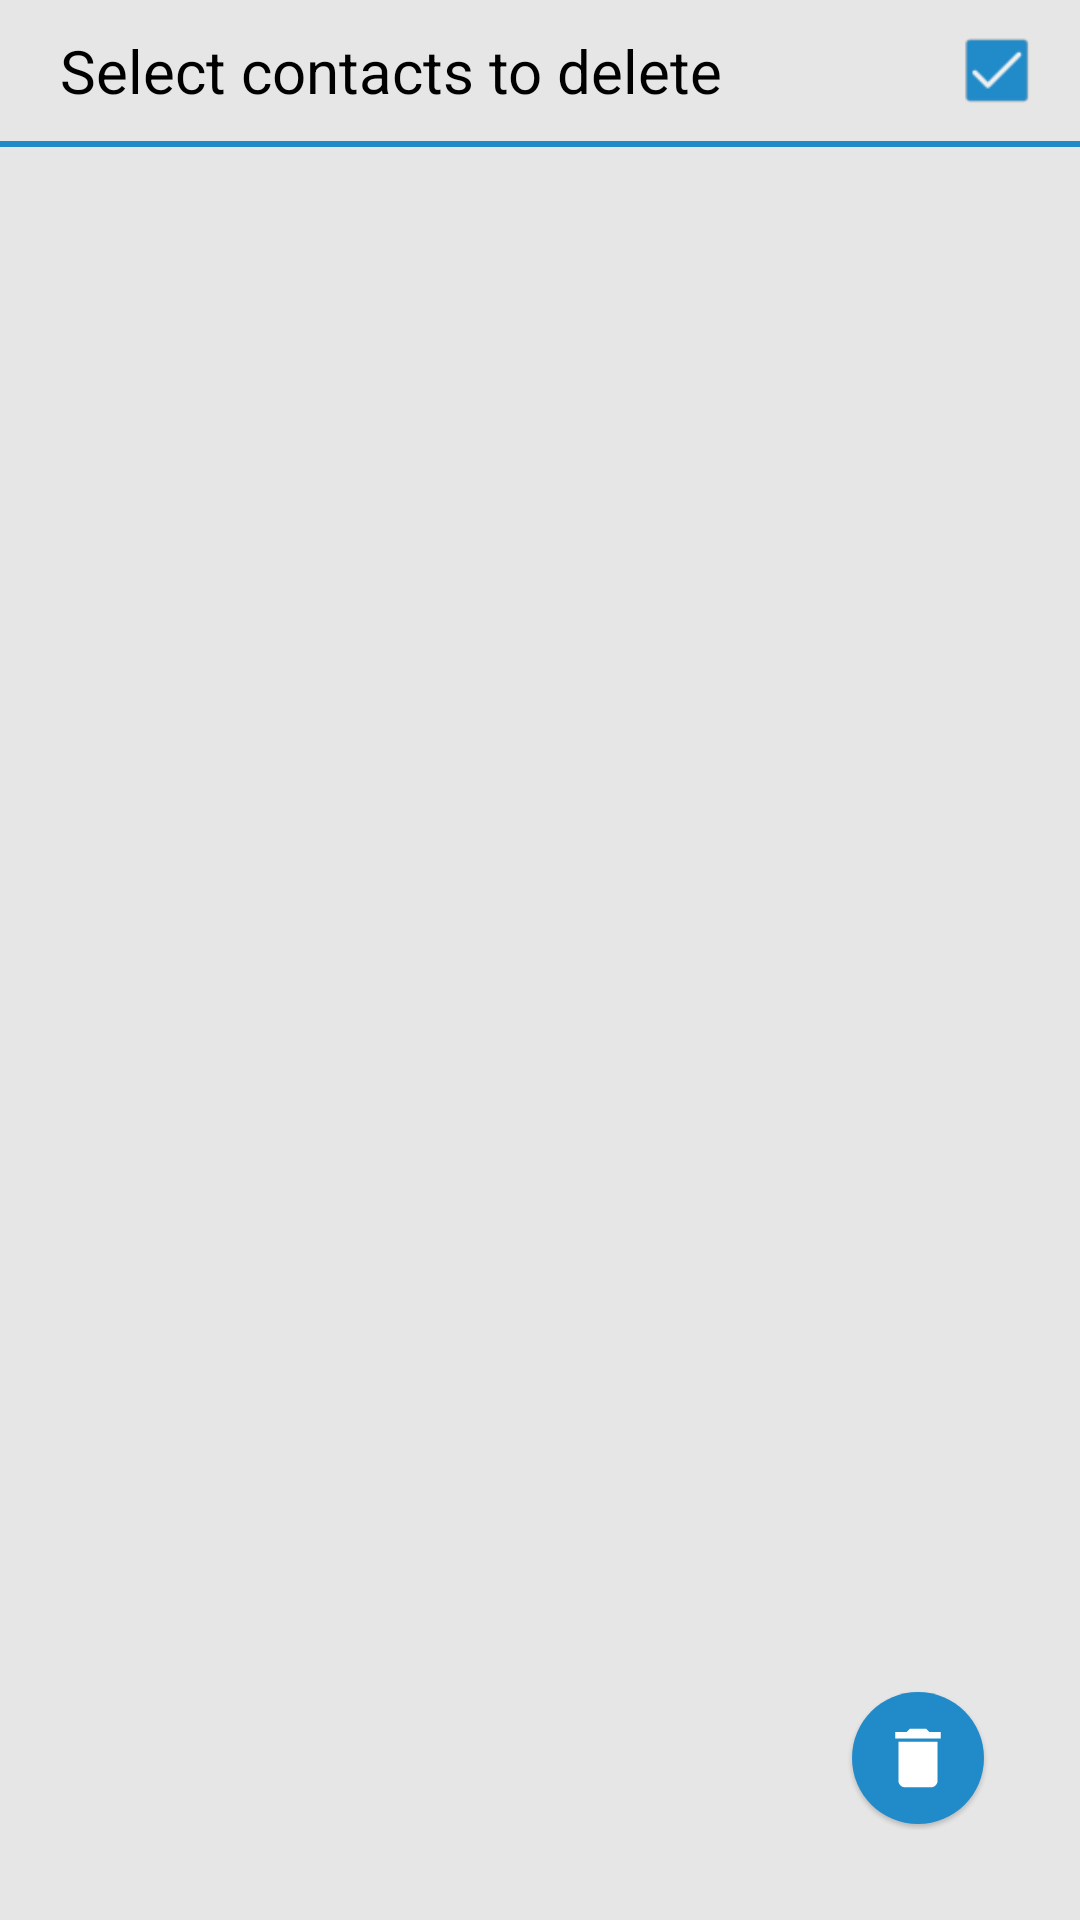

Point at icon controls on the screen. Image size 1080 × 1920, points as [x,y].
check: [997,70]
